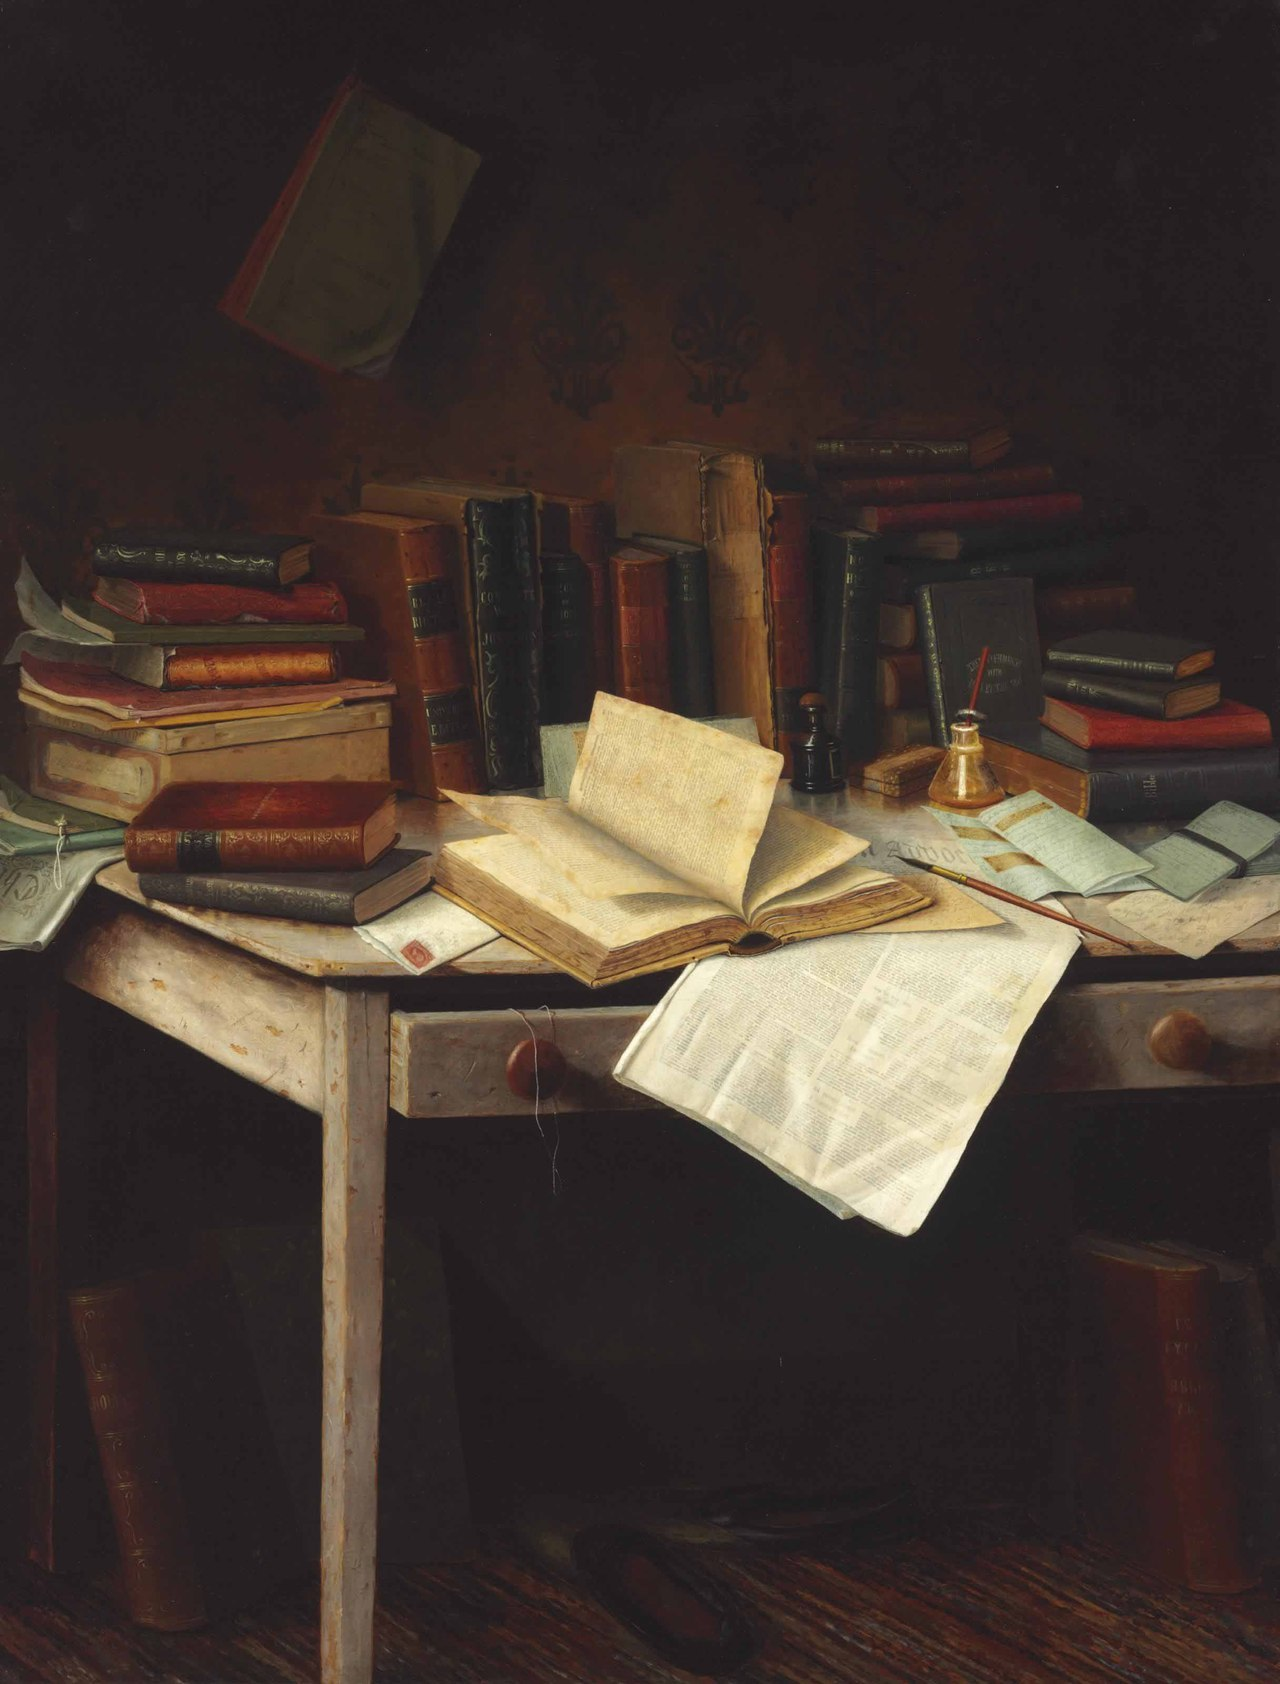Open Book: (438, 706, 944, 952)
